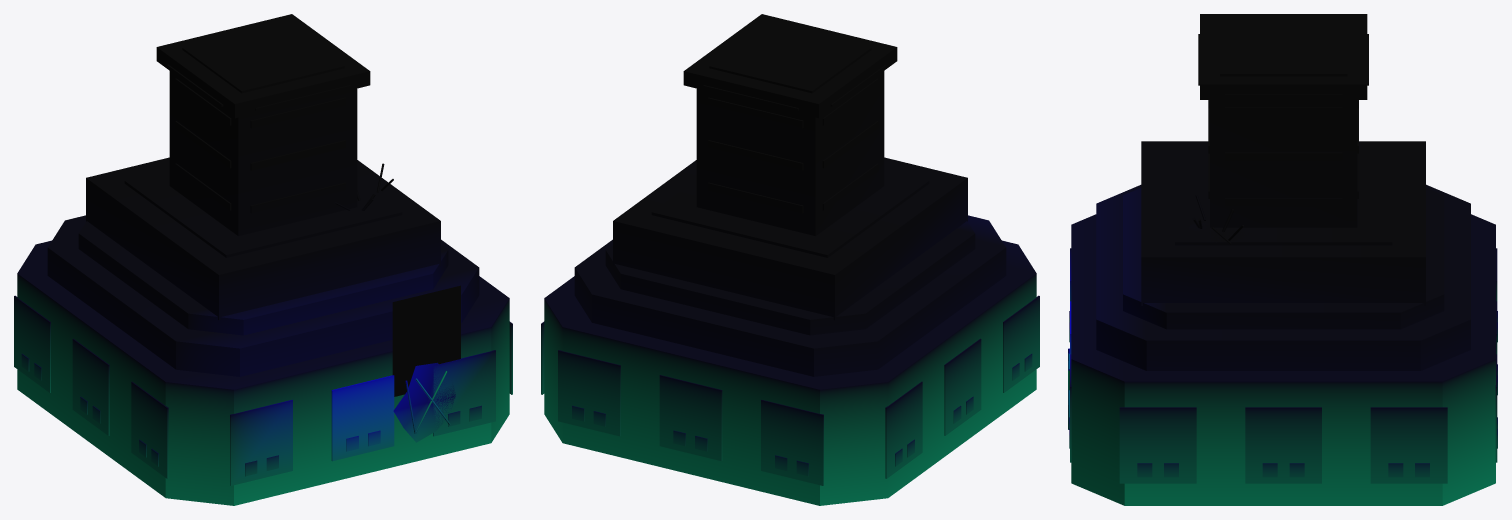
Rendered from hub_damaged.glb.
3 views of the same model, side by side, from view 1: azimuth 30°, elevation 25°; view 2: azimuth 150°, elevation 25°; view 3: azimuth 270°, elevation 25° (orthographic). The views are drawn at different scales.
Visible parts, largest first — view 1: lod0; view 2: lod0; view 3: lod0.
Part boxes in pixels (left/top/right/bottom): lod0: left=14, top=14, right=512, bottom=505; lod0: left=541, top=14, right=1039, bottom=505; lod0: left=1068, top=14, right=1497, bottom=505.
Size of what is drawn, in the model's own units: 25.62 by 24.35 by 25.7.
